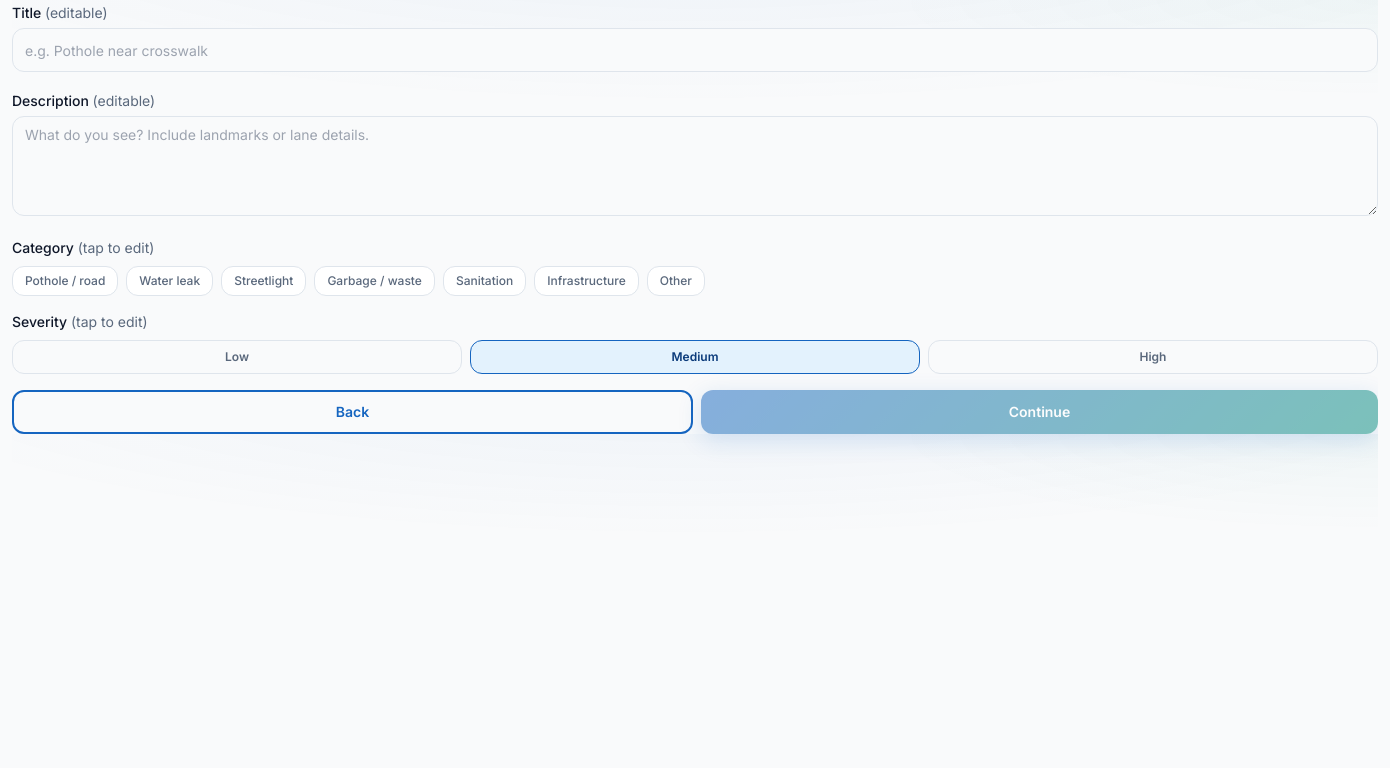
ReportDetailsStep › shows AI suggested category and why panel
Type "Large pothole near school crossing on MG Road." into the text box with test id "report-description-input" at (695, 166), box [12,116,1378,216]
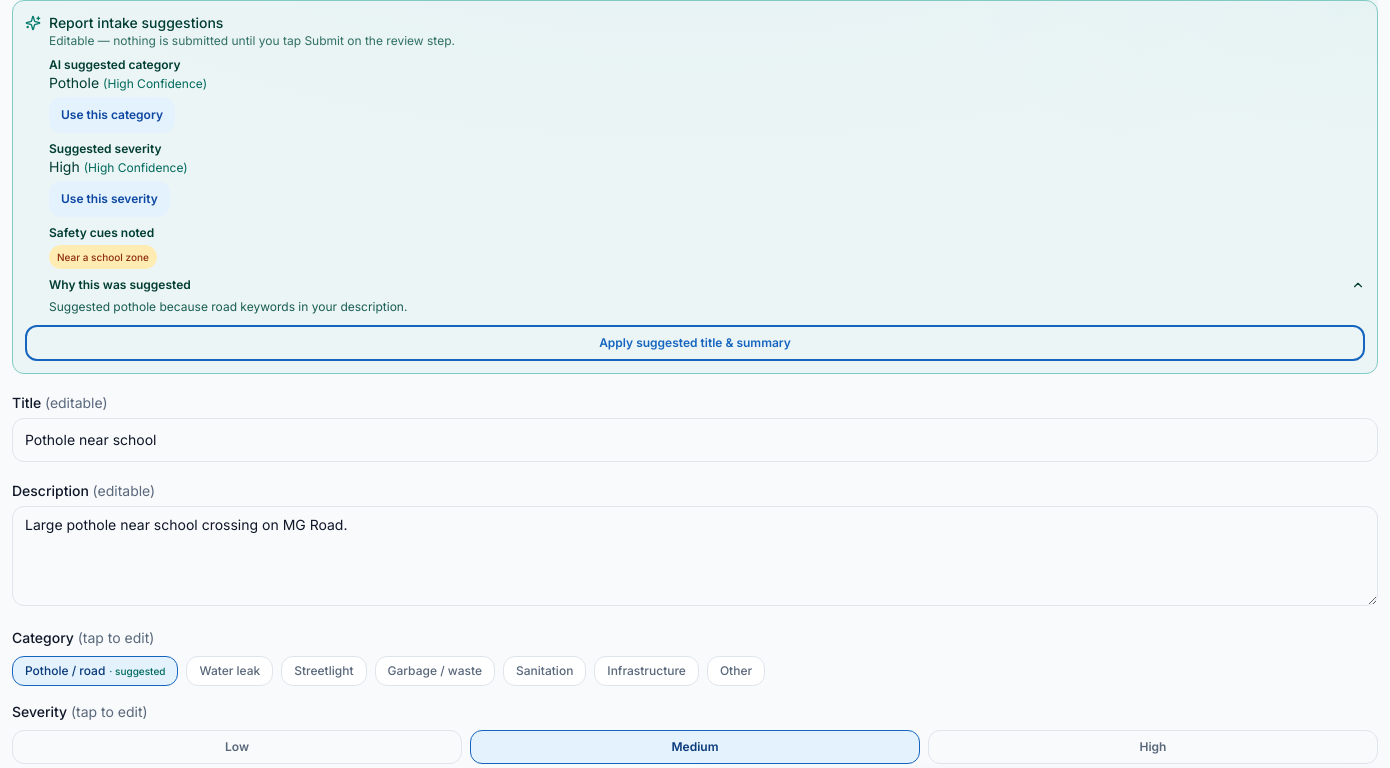
Expected: the element with test id "ai-suggested-category" is shown, [49,57,207,133]
Expected: the element with test id "ai-why-suggested" is shown, [49,277,1365,316]
